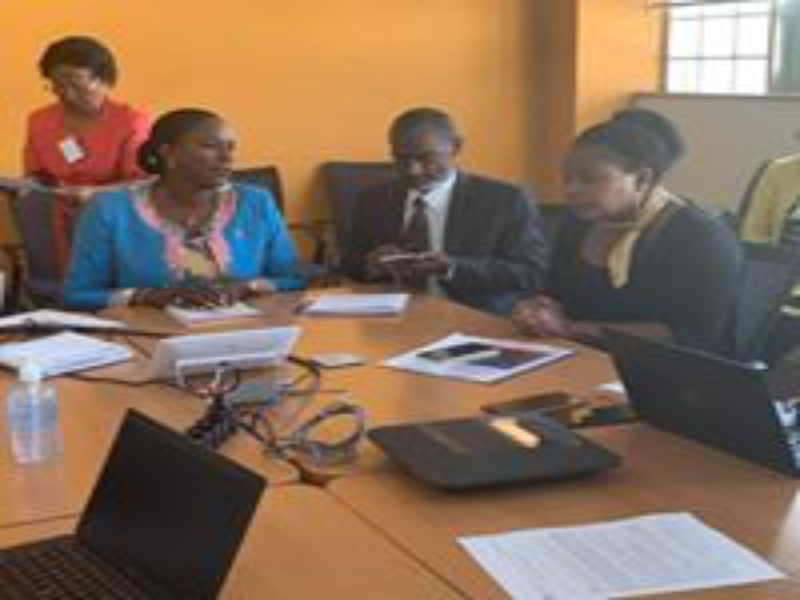TsisyArotava: (145, 103, 254, 197), (554, 125, 638, 227), (383, 105, 464, 203)
